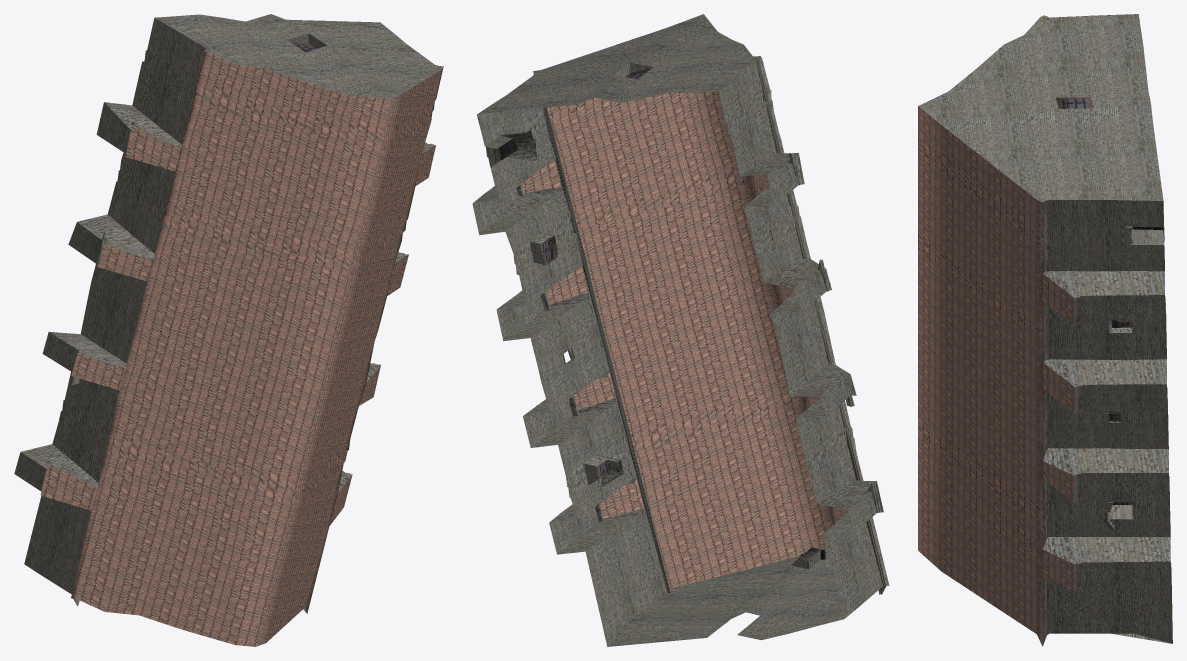
File: uus_37-origo.obj
3 renders of one model, left to right at view 1: azimuth 30°, elevation 25°; view 2: azimuth 150°, elevation 25°; view 3: azimuth 270°, elevation 25°, orthographic. The views are drawn at different scales.
Visible parts, largest first — view 1: polySurface44; view 2: polySurface44; view 3: polySurface44.
Part boxes in pixels (bbox=[...]): polySurface44: bbox=[14, 14, 443, 646]; polySurface44: bbox=[472, 14, 889, 646]; polySurface44: bbox=[918, 14, 1172, 646].
Size of the model in its own units: 19.94 by 28.5 by 11.3.
